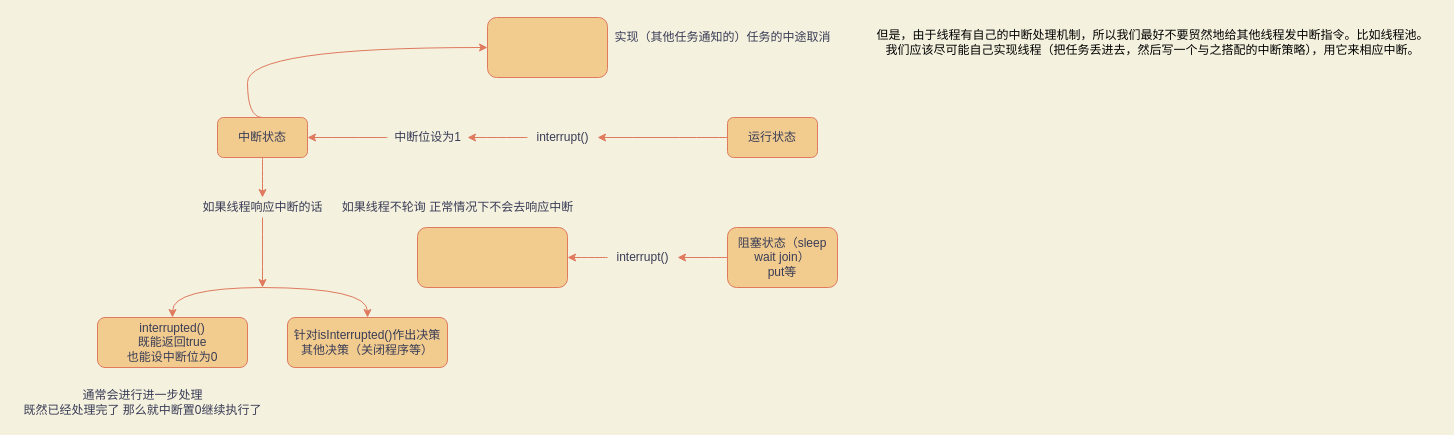
The diagram is 1454 pixels wide and 435 high, and some of its shapes have lost their labels. The box of each missing label's shape, as (x1, y1, x2, y2) in pixels:
InterruptedException: (416, 226, 568, 288)
作用: (486, 16, 608, 78)
